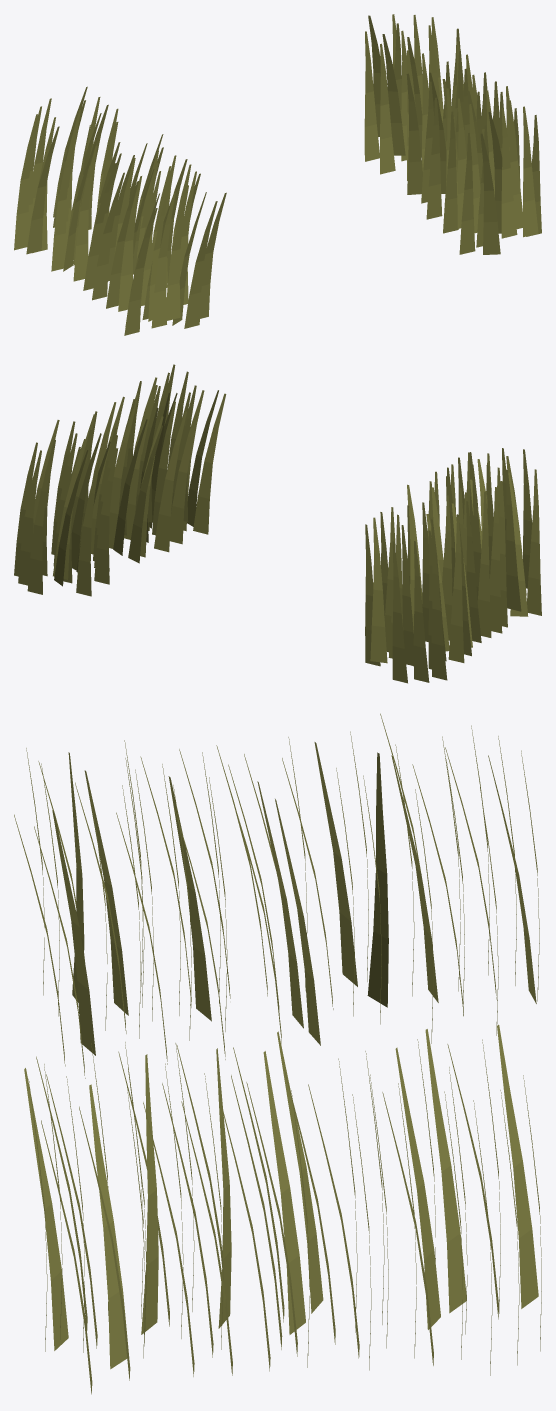
Rendered from side_grass.glb.
3 views of the same model, one above another, from view 1: azimuth 30°, elevation 25°; view 2: azimuth 150°, elevation 25°; view 3: azimuth 270°, elevation 25° (orthographic). The views are drawn at different scales.
Parts seen in each view (by area): view 1: Plane.049; view 2: Plane.049; view 3: Plane.049.
Part boxes in pixels (<box>): Plane.049: <box>14,14,541,335</box>; Plane.049: <box>14,364,541,683</box>; Plane.049: <box>14,713,541,1394</box>.
Size of the model in its own units: 3.57 by 1.24 by 1.92.
